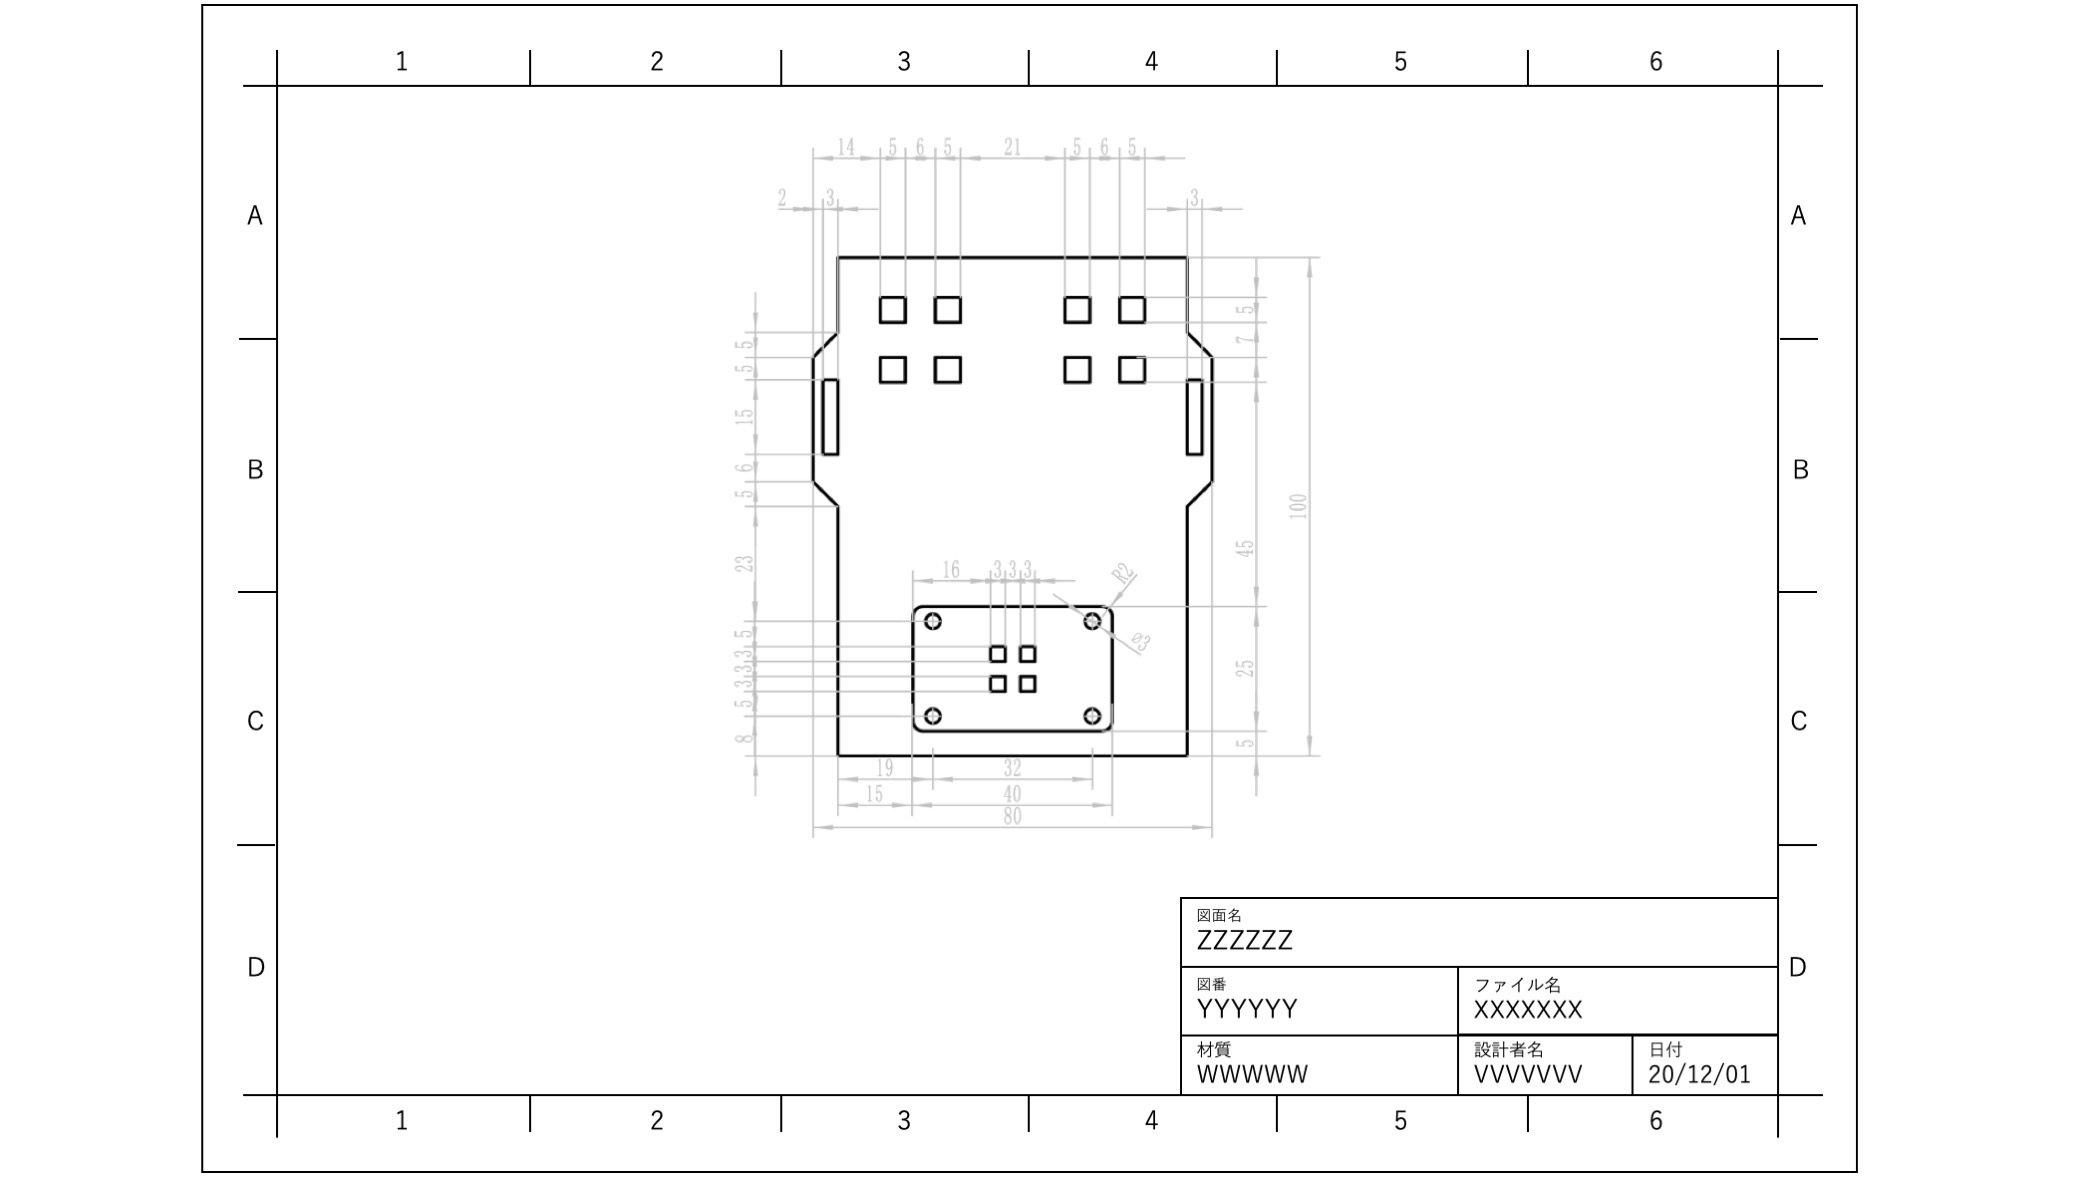circle: (1080, 704, 1106, 728), (922, 611, 945, 632), (922, 707, 946, 725), (1080, 611, 1102, 632)
rectangle: (813, 371, 850, 456), (1177, 371, 1212, 459), (1113, 291, 1155, 330), (1056, 350, 1099, 386), (1059, 290, 1098, 329), (930, 346, 966, 388), (873, 290, 909, 330), (875, 348, 912, 388), (1116, 346, 1151, 388), (930, 288, 963, 329), (1015, 642, 1040, 666), (1015, 673, 1040, 694), (985, 643, 1008, 663), (987, 673, 1010, 694)
